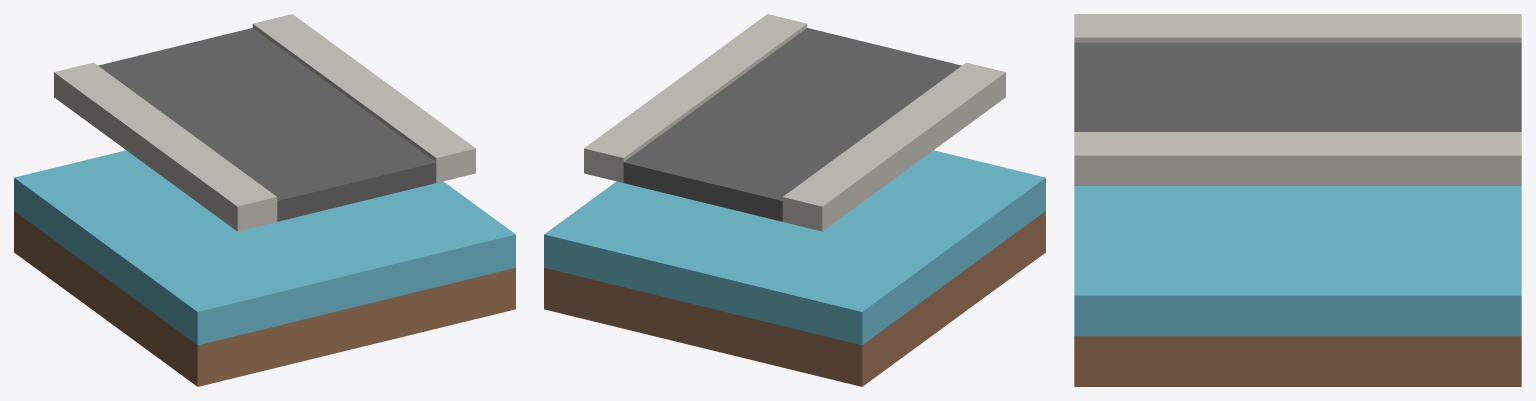
File: road-bridge-water.obj
3 views of the same model, side by side, from view 1: azimuth 30°, elevation 25°; view 2: azimuth 150°, elevation 25°; view 3: azimuth 270°, elevation 25° (orthographic). The views are drawn at different scales.
Parts seen in each view (by area): view 1: road-bridge-water_Cube.234; view 2: road-bridge-water_Cube.234; view 3: road-bridge-water_Cube.234.
Boxes of the visible parts, box(x1,y1,x2,y2) form: road-bridge-water_Cube.234: box(14, 14, 515, 386); road-bridge-water_Cube.234: box(544, 14, 1045, 386); road-bridge-water_Cube.234: box(1074, 14, 1521, 386).
Bounding box in the file's own units: 8 × 4.1 × 8.
1 material, 1 textured.
